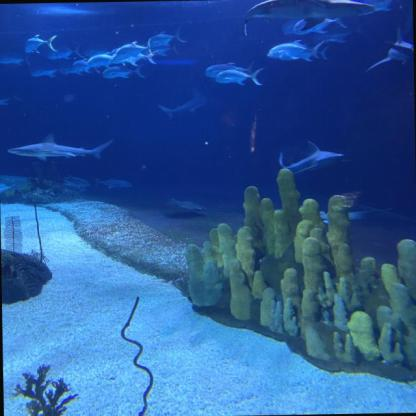fish: (292, 13, 348, 36), (266, 42, 326, 58), (215, 67, 266, 85), (146, 26, 188, 47), (205, 61, 255, 78), (109, 50, 160, 66), (279, 45, 330, 61), (102, 64, 146, 80), (86, 52, 125, 69), (24, 34, 58, 53), (30, 62, 70, 78), (115, 45, 153, 60), (94, 176, 132, 191), (47, 46, 85, 59), (144, 42, 178, 56), (0, 52, 33, 66), (0, 91, 24, 109), (72, 58, 100, 73), (58, 175, 90, 186)
shark: (242, 0, 376, 37), (7, 132, 116, 162), (279, 140, 353, 176), (364, 25, 413, 73), (159, 86, 212, 120)
stingray: (166, 196, 206, 212)
